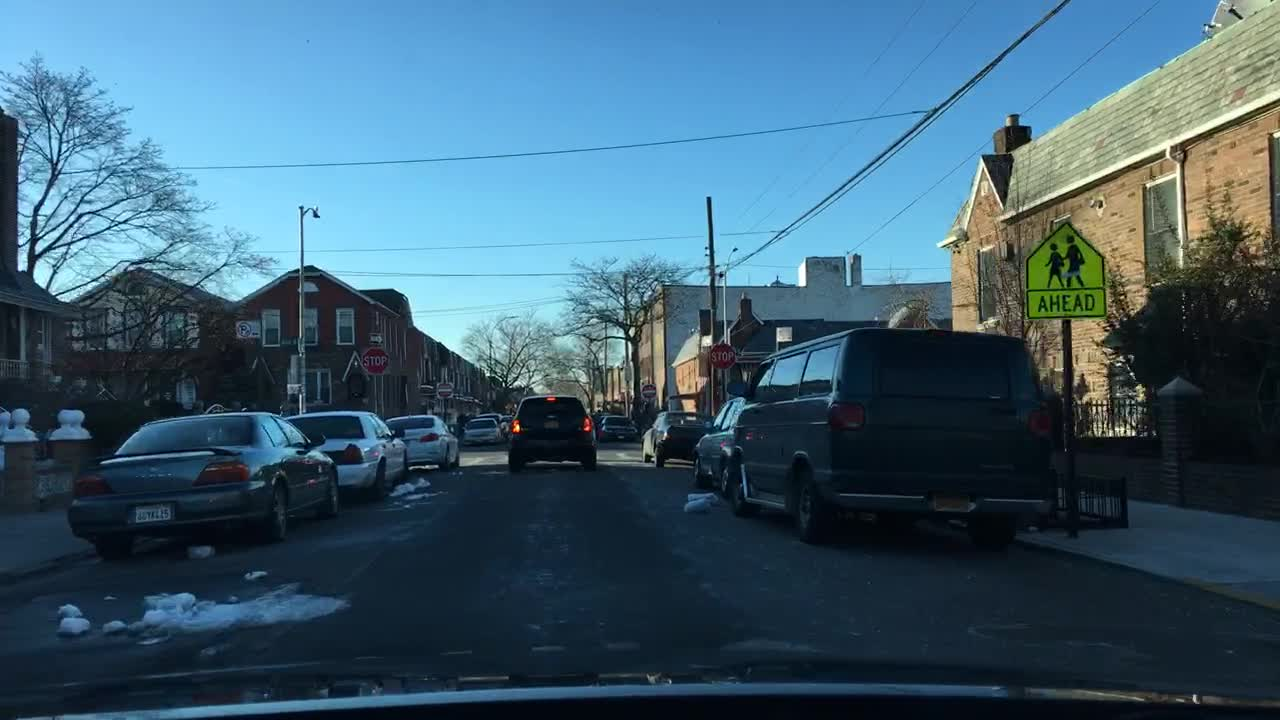car: (693, 325, 1065, 545), (67, 412, 339, 559), (275, 410, 408, 491), (508, 393, 597, 481), (385, 413, 460, 470), (640, 411, 710, 471), (462, 415, 502, 446), (596, 413, 638, 440), (474, 412, 510, 435), (503, 413, 515, 425)
traffic sign: (1022, 223, 1110, 320), (359, 347, 390, 378), (708, 343, 737, 369), (236, 320, 261, 339), (437, 381, 454, 400), (640, 383, 657, 399)
